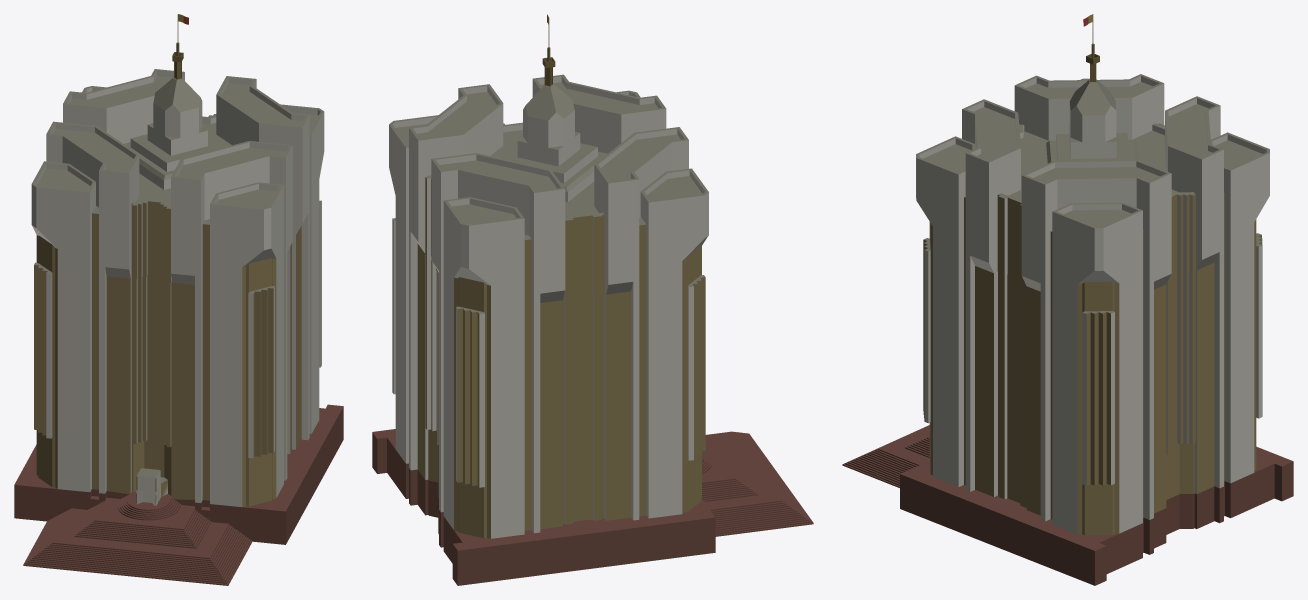
3 renders of one model, left to right at view 1: azimuth 30°, elevation 25°; view 2: azimuth 150°, elevation 25°; view 3: azimuth 270°, elevation 25°, orthographic. The views are drawn at different scales.
Visible parts, largest first — view 1: polySurface30:PIV; view 2: polySurface30:PIV; view 3: polySurface30:PIV.
Boxes of the visible parts, x1=… form: polySurface30:PIV: x1=14, y1=14, x2=343, y2=585; polySurface30:PIV: x1=372, y1=14, x2=813, y2=585; polySurface30:PIV: x1=842, y1=14, x2=1293, y2=585.
Bounding box in the file's own units: 6938 × 8372 × 7031.
